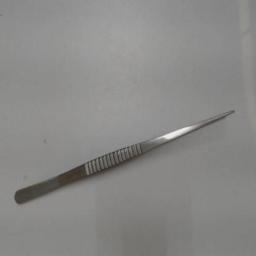DeBakey Dissector: (11, 92, 245, 214)
